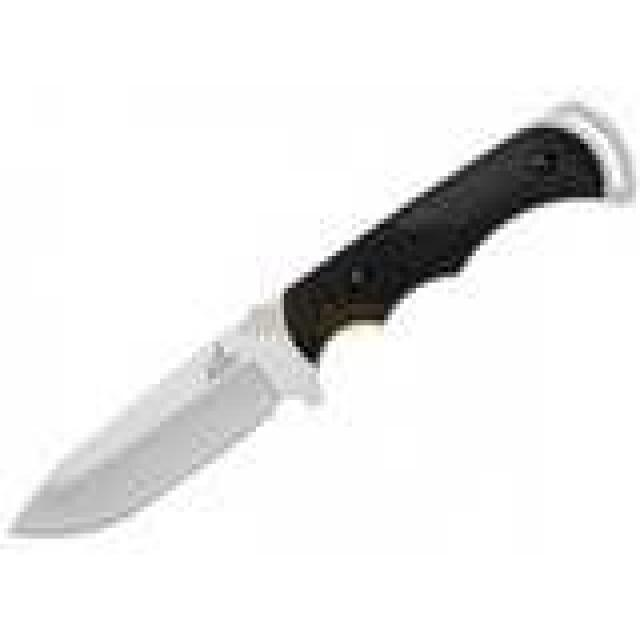Knife: (5, 99, 638, 538)
